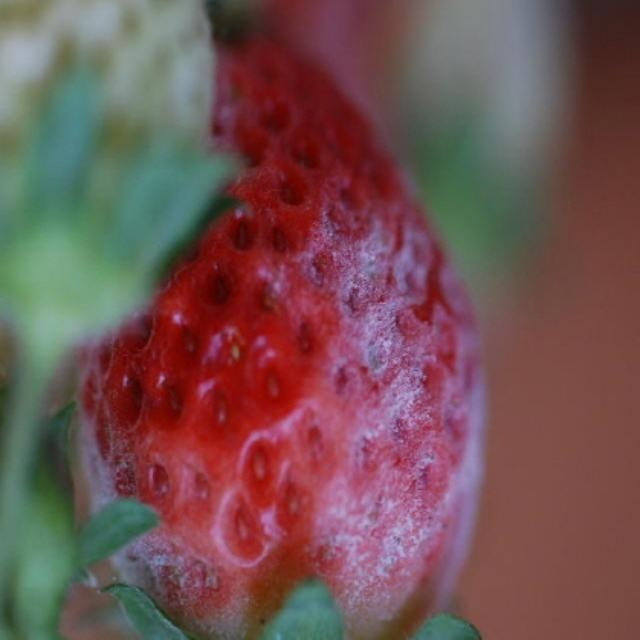Powdery Mildew Fruit: (34, 171, 485, 640)
